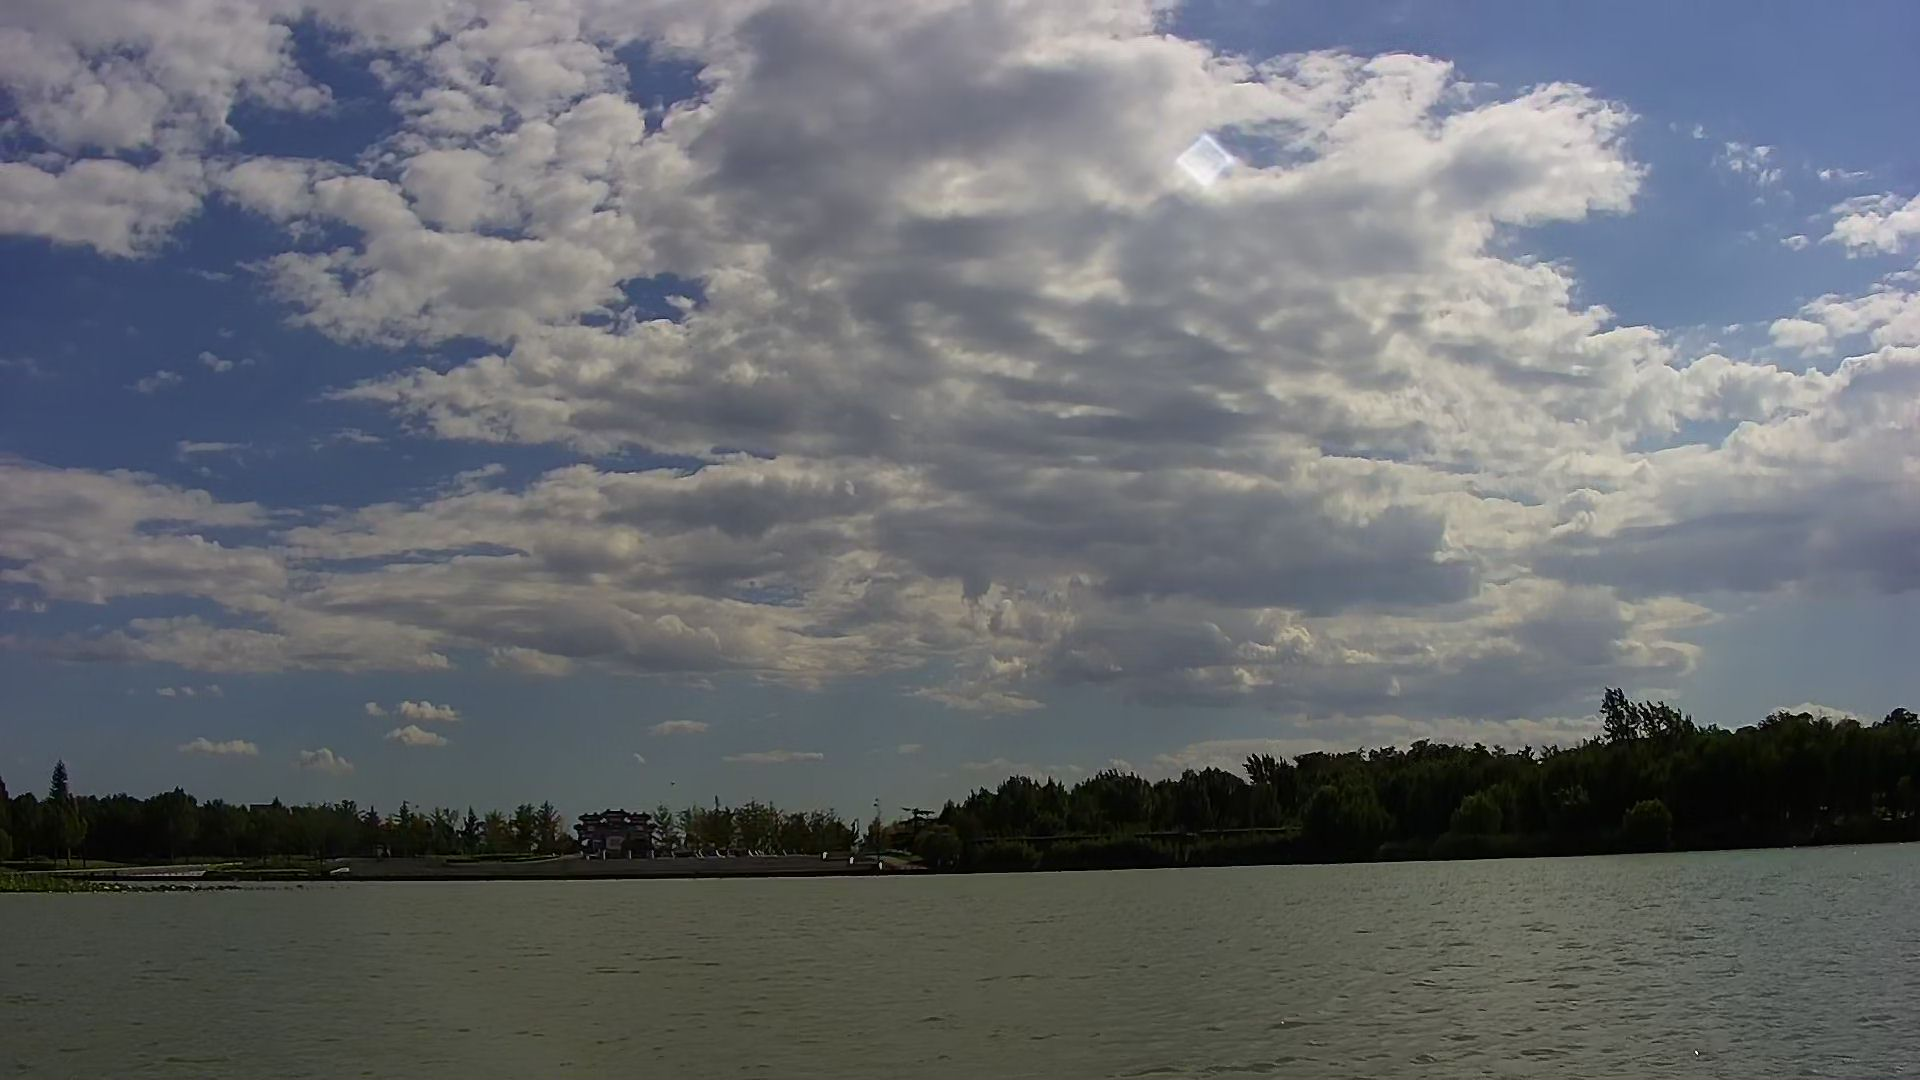harbor: (338, 837, 938, 885)
